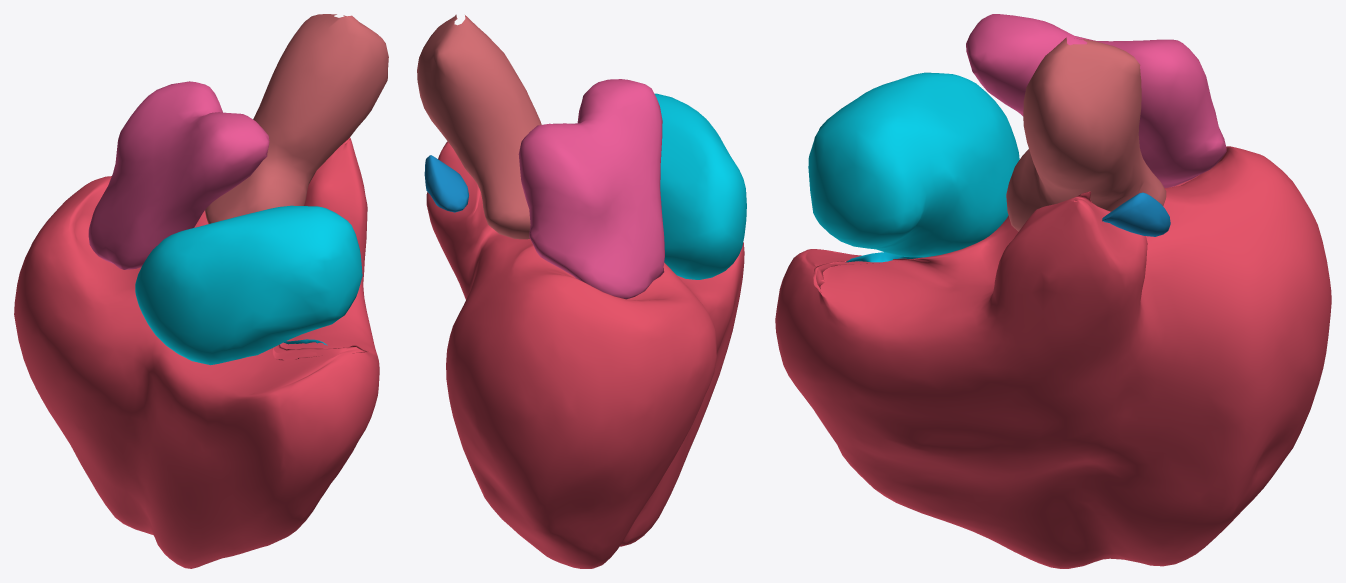
File: frame_39.glb
3 renders of one model, left to right at view 1: azimuth 30°, elevation 25°; view 2: azimuth 150°, elevation 25°; view 3: azimuth 270°, elevation 25°, orthographic. The views are drawn at different scales.
Visible parts, largest first — view 1: Renderer Node; view 2: Renderer Node; view 3: Renderer Node.
Boxes of the visible parts, <box> form: Renderer Node: <box>14,14,388,568</box>; Renderer Node: <box>417,14,746,568</box>; Renderer Node: <box>775,14,1331,568</box>.
Size of the model in its own units: 105 by 162 by 130.
